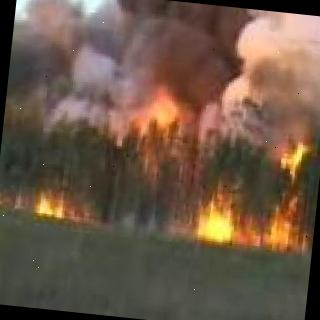fire: (202, 128, 318, 254), (131, 69, 199, 140), (30, 185, 74, 220)
